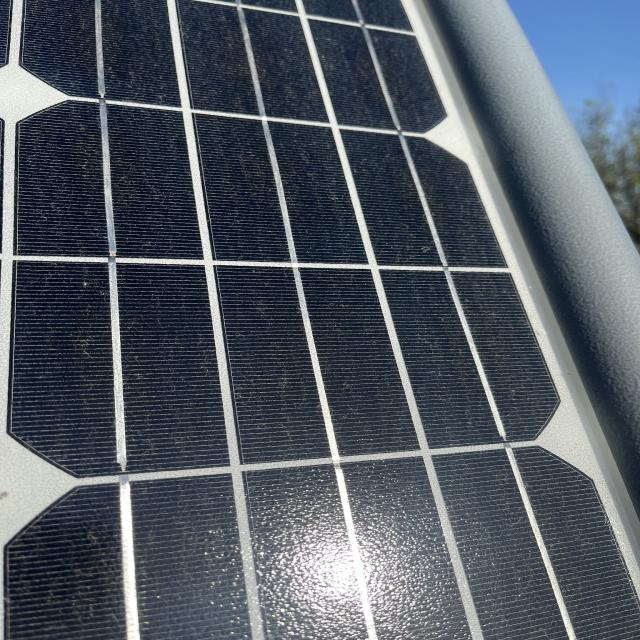clean-solar-panel: (1, 0, 638, 640)
